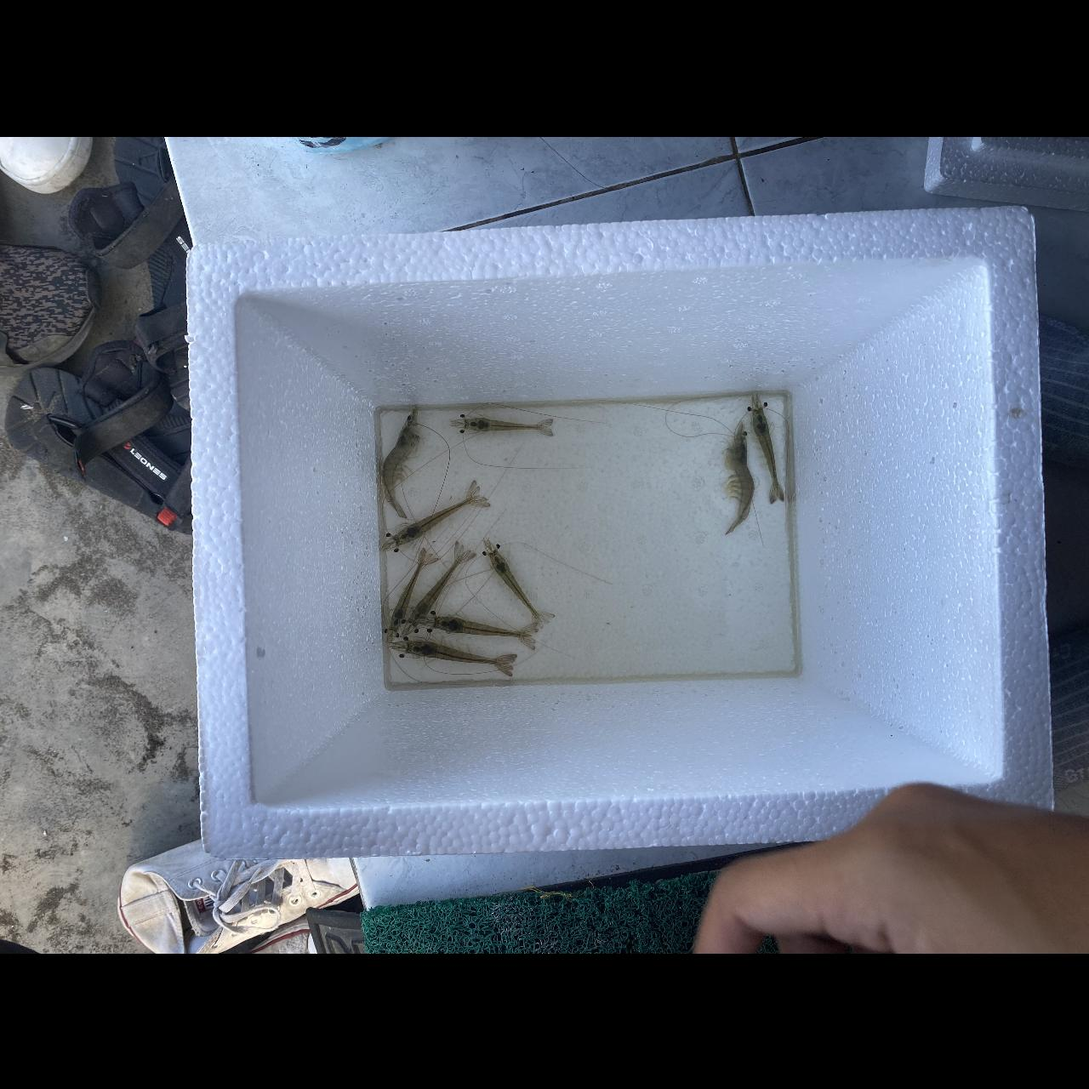side_shrimp: (725, 438, 755, 533), (383, 429, 412, 519)
top_shrimp: (395, 495, 479, 544), (410, 551, 464, 623), (490, 550, 541, 622), (391, 554, 425, 630), (408, 640, 511, 665), (753, 409, 778, 496), (433, 616, 533, 637), (464, 417, 547, 431)
